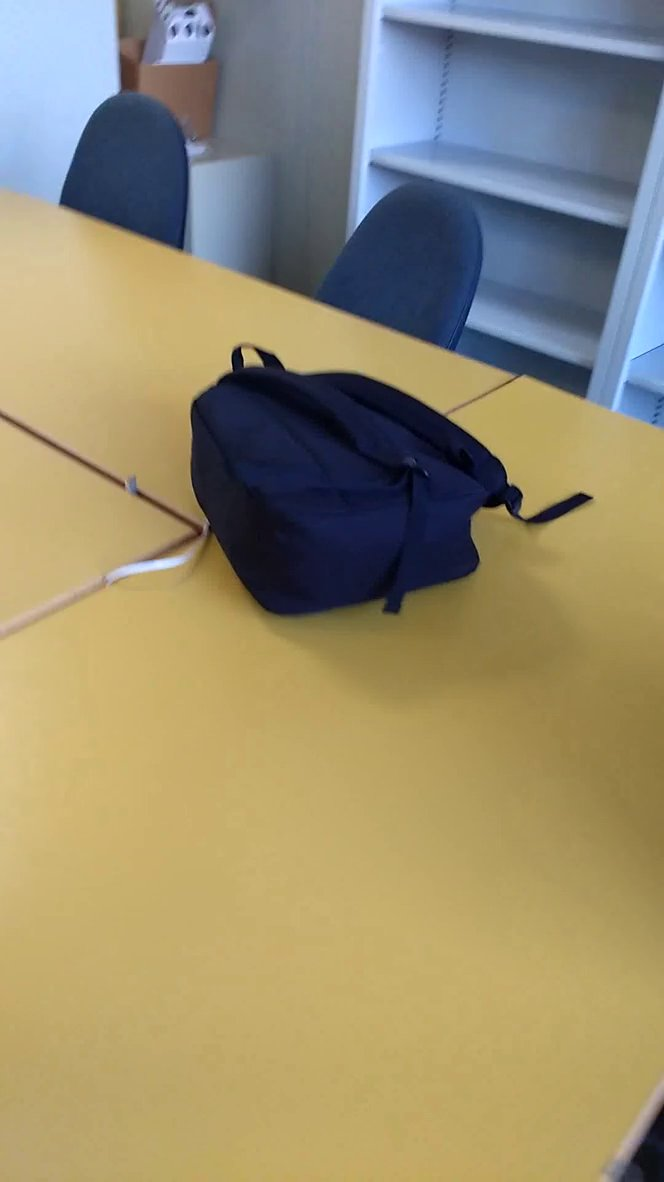bag: (178, 316, 620, 629)
chair: (302, 172, 497, 376), (52, 84, 201, 274)
